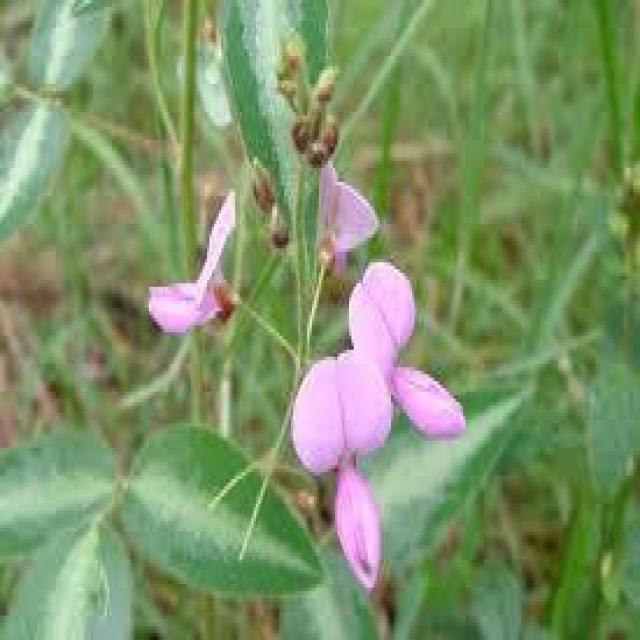organic waste: (271, 329, 418, 584), (337, 260, 482, 457), (135, 182, 249, 336), (312, 159, 384, 275)
